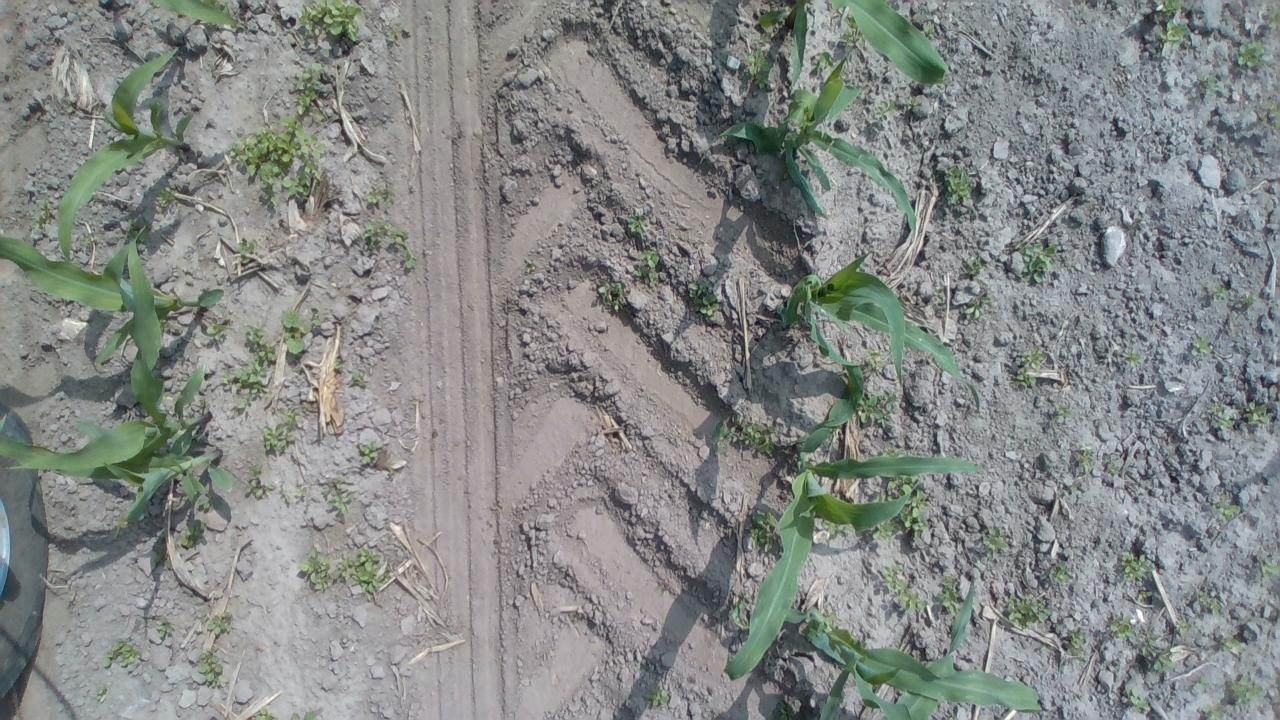Maize: (712, 357, 992, 683), (4, 225, 218, 479), (731, 575, 1062, 720), (706, 54, 926, 235), (46, 42, 210, 263), (0, 218, 201, 372), (748, 252, 972, 382), (5, 424, 241, 530), (751, 0, 956, 94)
Weeds: (226, 117, 324, 201), (299, 550, 390, 602), (709, 414, 780, 460), (214, 356, 269, 414), (884, 474, 930, 537), (292, 0, 363, 40), (882, 562, 928, 618), (288, 61, 330, 121), (869, 90, 932, 126), (742, 505, 788, 553), (1155, 0, 1194, 55), (1000, 594, 1050, 636), (236, 459, 282, 503), (1019, 238, 1061, 286), (1012, 346, 1053, 392), (852, 393, 898, 432), (242, 322, 282, 366), (939, 162, 980, 204), (278, 310, 312, 360), (387, 226, 423, 272), (195, 647, 228, 692), (628, 247, 666, 286), (742, 47, 774, 93), (102, 637, 145, 671), (1218, 672, 1258, 708), (1118, 550, 1156, 586), (262, 425, 302, 459), (1208, 623, 1244, 660), (640, 676, 679, 710), (321, 478, 354, 518), (690, 282, 726, 318), (176, 516, 210, 554), (1209, 496, 1248, 528), (938, 568, 964, 616), (357, 441, 390, 478), (120, 216, 153, 253), (1252, 92, 1280, 135), (201, 312, 230, 352), (594, 274, 630, 306), (1140, 636, 1172, 672), (816, 509, 853, 540), (858, 344, 891, 378), (1208, 400, 1240, 435), (810, 46, 841, 82), (979, 526, 1013, 558), (1244, 396, 1272, 434), (249, 708, 335, 720), (226, 232, 260, 262), (1195, 586, 1229, 616), (840, 18, 869, 53), (628, 209, 659, 240), (1114, 342, 1146, 372), (1184, 332, 1214, 363), (1192, 66, 1226, 93), (204, 608, 232, 640), (1066, 625, 1094, 657), (1254, 554, 1280, 588), (1237, 36, 1262, 71), (1108, 608, 1136, 638), (360, 220, 387, 251), (1070, 443, 1096, 474), (1048, 558, 1076, 586), (360, 184, 390, 210), (1122, 686, 1152, 712), (31, 198, 58, 226), (306, 306, 330, 334), (921, 14, 942, 44), (155, 618, 180, 642), (963, 294, 987, 319), (1050, 401, 1074, 426), (196, 492, 219, 518), (962, 252, 978, 286), (1265, 2, 1280, 38), (350, 368, 370, 395), (1170, 610, 1190, 636), (874, 514, 889, 548), (1209, 280, 1232, 302), (1190, 707, 1228, 720), (155, 184, 177, 206), (522, 254, 542, 276), (90, 682, 112, 702), (280, 406, 301, 426), (1190, 671, 1210, 692), (379, 26, 398, 47), (1242, 292, 1260, 312), (294, 482, 310, 501), (332, 356, 343, 375)
